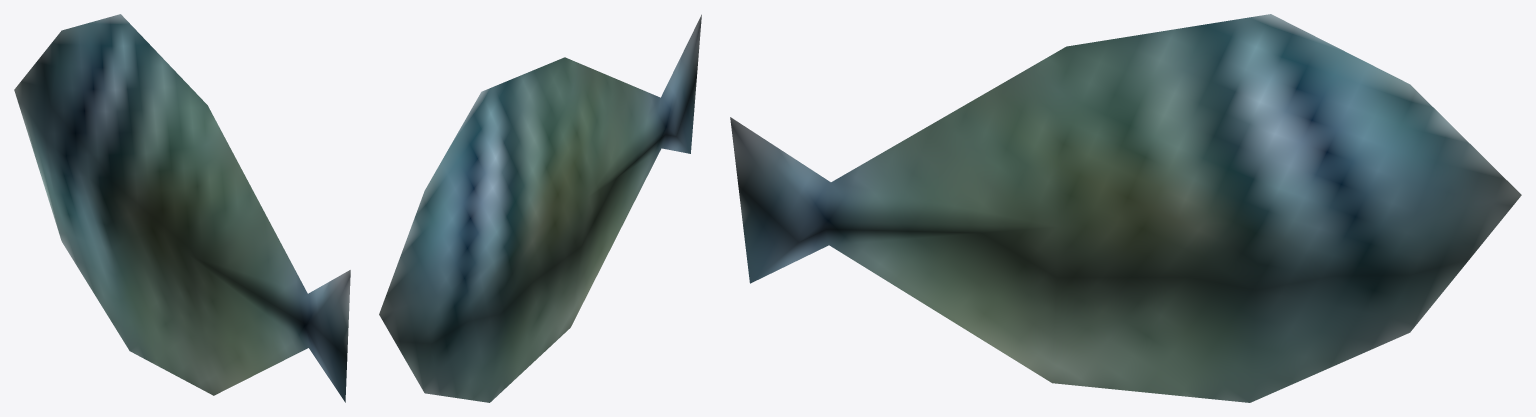
The model's file is animal.fish_5.glb.
The picture shows the model from 3 angles, left to right: view 1: azimuth 30°, elevation 25°; view 2: azimuth 150°, elevation 25°; view 3: azimuth 270°, elevation 25°; orthographic projection. The views are drawn at different scales.
Parts seen in each view (by area): view 1: Cube013; view 2: Cube013; view 3: Cube013.
Part boxes in pixels (x1,y1,x2,y2): Cube013: (14,14,350,402); Cube013: (379,14,701,402); Cube013: (730,14,1521,402).
Size of the model in its own units: 0.0417 by 0.271 by 0.5.
1 material, 1 textured.
